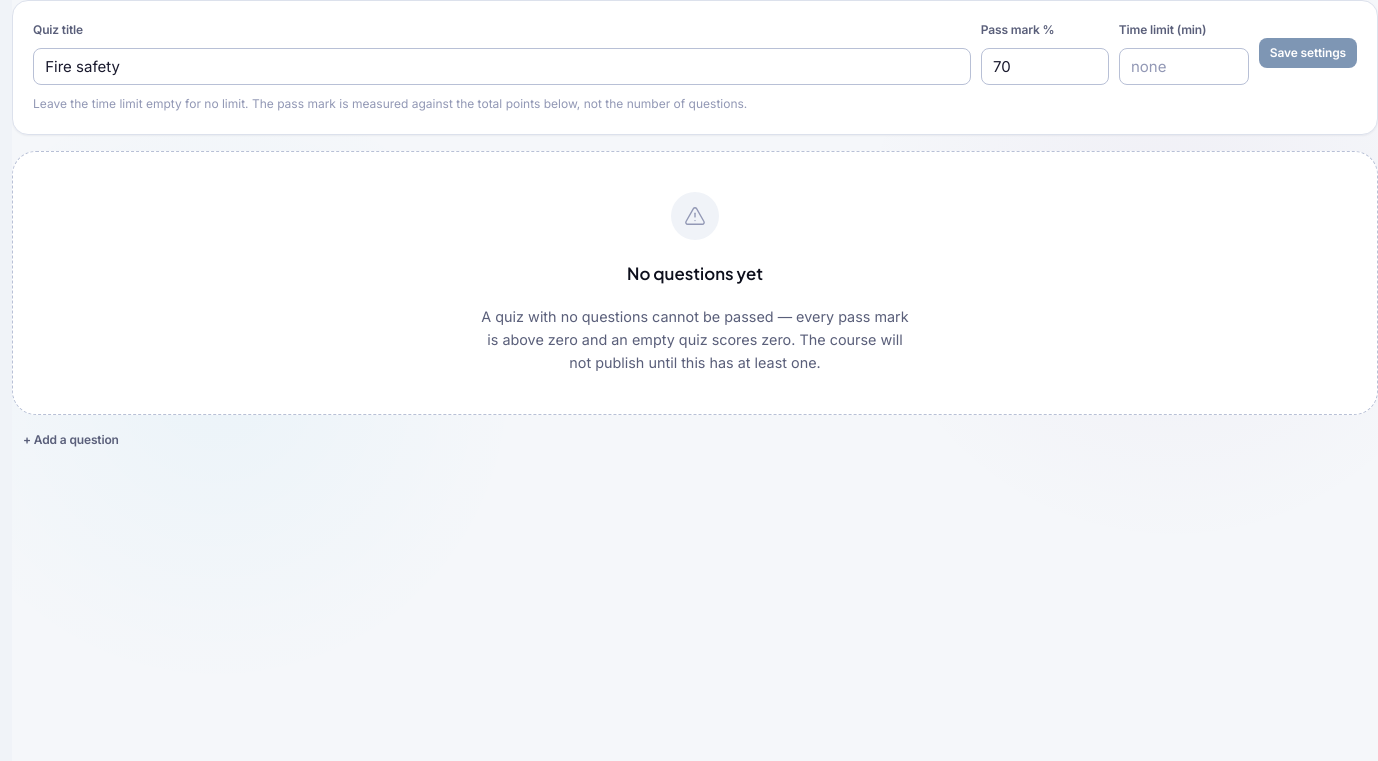
Test case: writing a question › says what a written answer costs before it is chosen
The image size is (1378, 761).
Click the button "+ Add a question" at (71, 440), box [12,425,130,455]
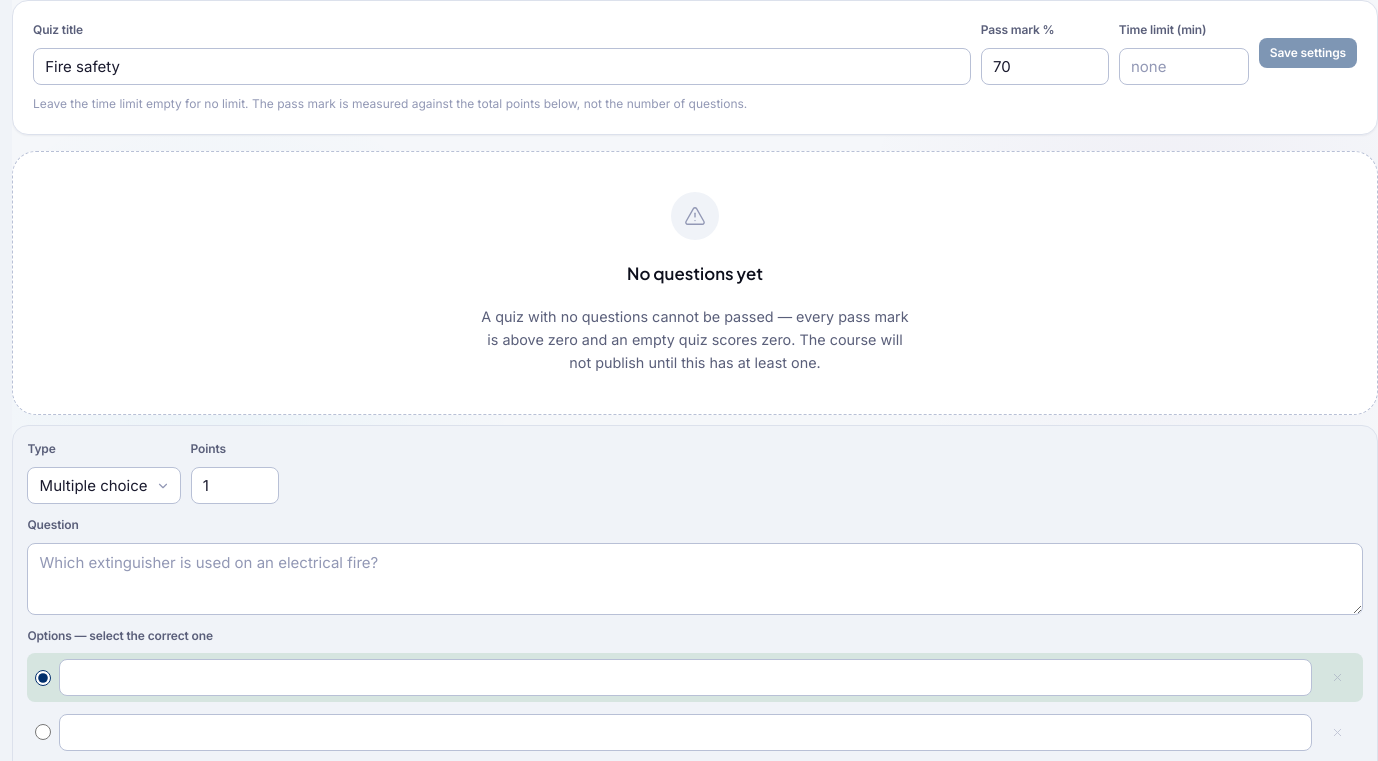
Select "Written answer" in the dropdown labelled "Type" at (104, 486), box [27,467,181,504]
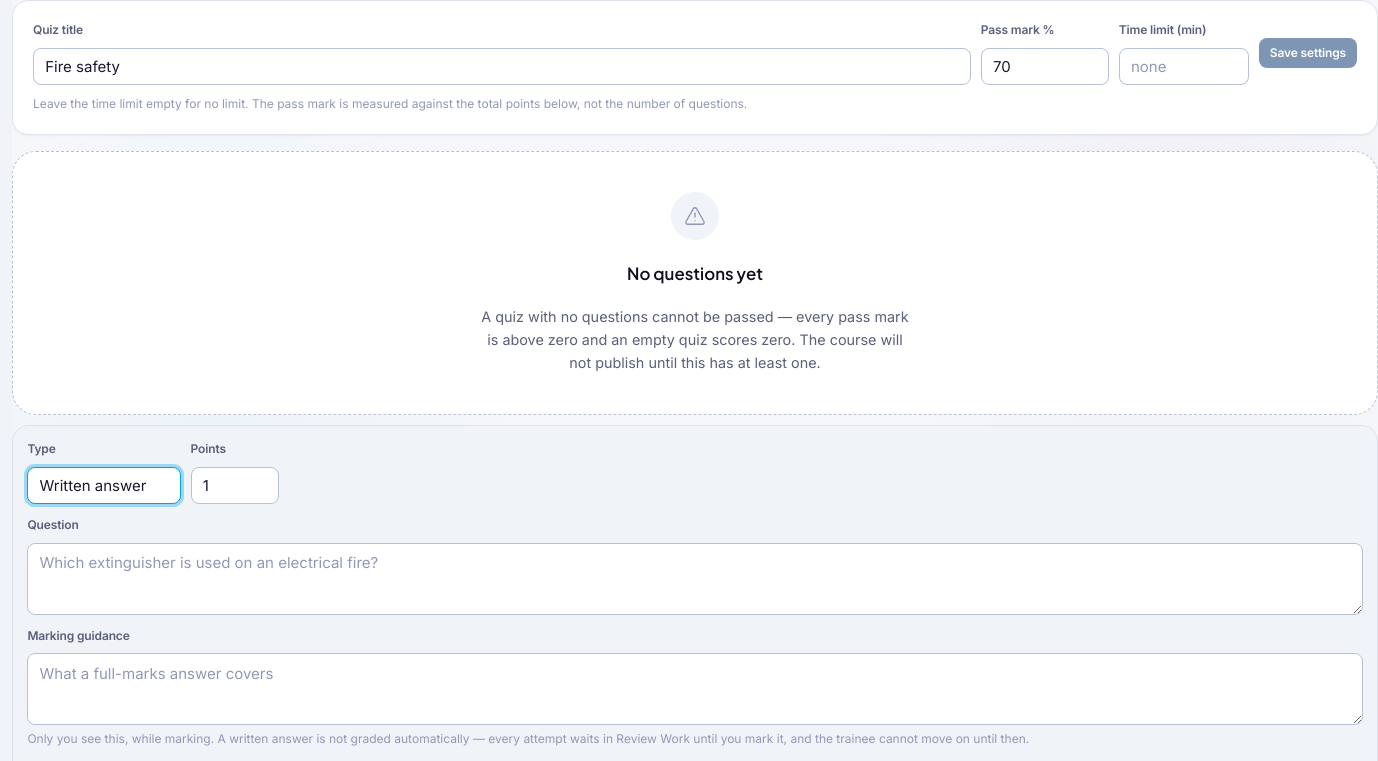
expect the text "cannot move on until then" is shown: met, box [27,732,1029,746]
